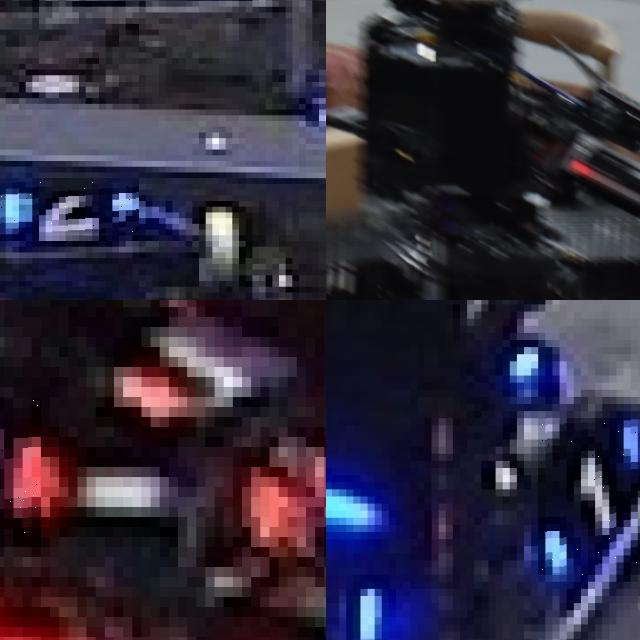B1: (538, 418, 640, 574), (326, 532, 381, 640)
B2: (0, 178, 138, 241)
R3: (0, 397, 40, 547)
